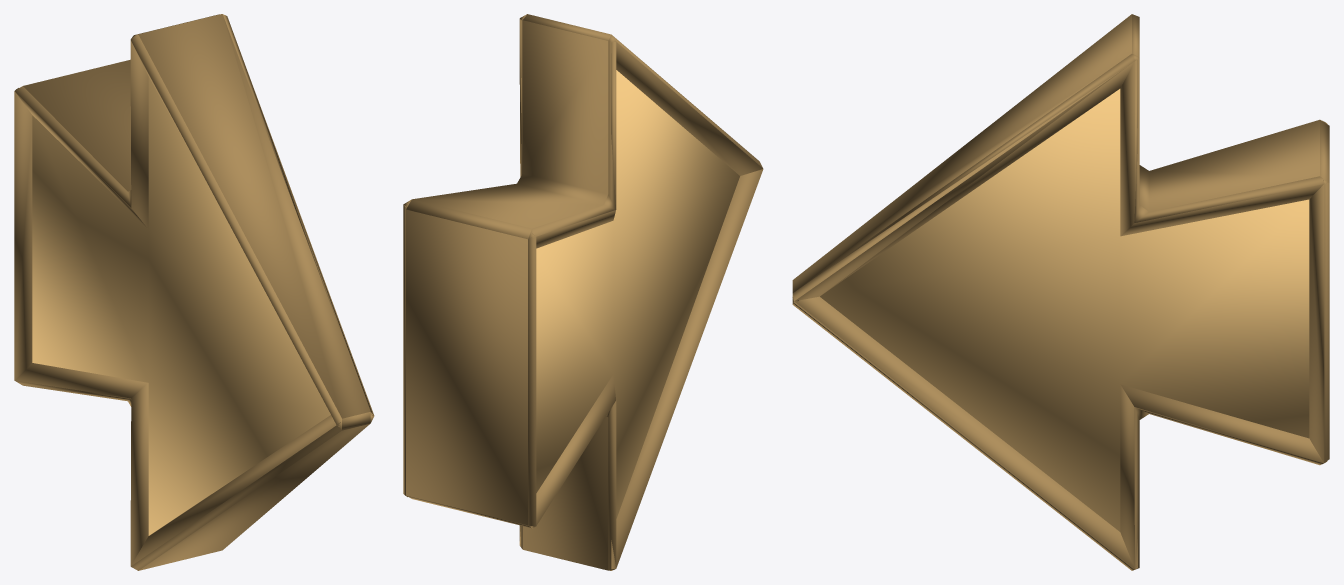
File: arrow.fbx
The picture shows the model from 3 angles, left to right: view 1: azimuth 30°, elevation 25°; view 2: azimuth 150°, elevation 25°; view 3: azimuth 270°, elevation 25°; orthographic projection. The views are drawn at different scales.
Parts seen in each view (by area): view 1: node_id42; view 2: node_id42; view 3: node_id42.
Part boxes in pixels (bbox=[...]): node_id42: bbox=[14, 14, 374, 570]; node_id42: bbox=[403, 14, 763, 570]; node_id42: bbox=[792, 14, 1329, 570].
Size of the model in its own units: 3.18 by 12.29 by 11.56.
